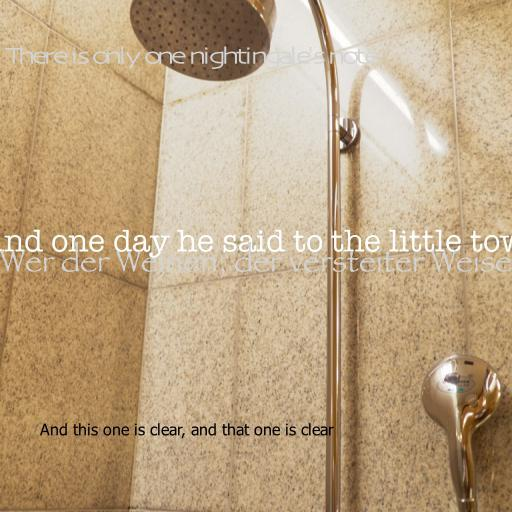American Typewriter: (0, 229, 512, 258)
Papyrus: (0, 241, 512, 278)
Skia: (4, 46, 376, 69)
Tahoma: (40, 423, 334, 439)
